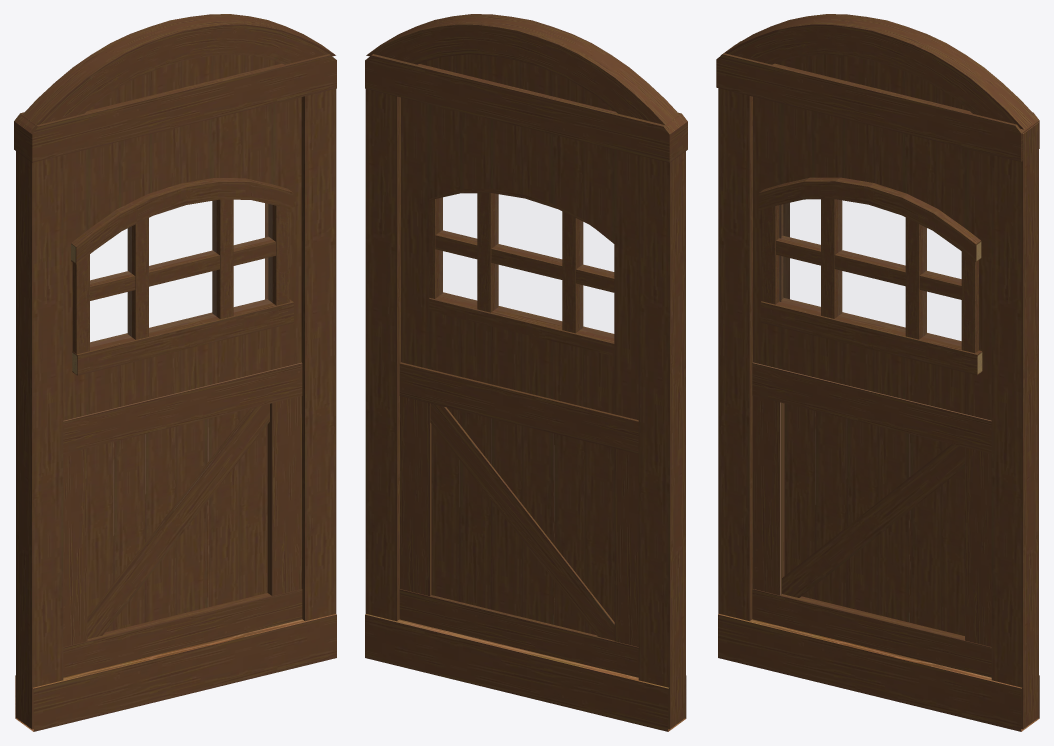
Rendered from Door_1_Round.glb.
3 views of the same model, side by side, from view 1: azimuth 30°, elevation 25°; view 2: azimuth 150°, elevation 25°; view 3: azimuth 330°, elevation 25° (orthographic).
Parts seen in each view (by area): view 1: Door_1_Round; view 2: Door_1_Round; view 3: Door_1_Round.
Boxes of the visible parts, <box> form: Door_1_Round: <box>14,14,336,731</box>; Door_1_Round: <box>365,14,687,731</box>; Door_1_Round: <box>716,14,1039,731</box>.
Bounding box in the file's own units: 1.12 × 2.32 × 0.1207.
Materials: 2 (1 with a texture image).
